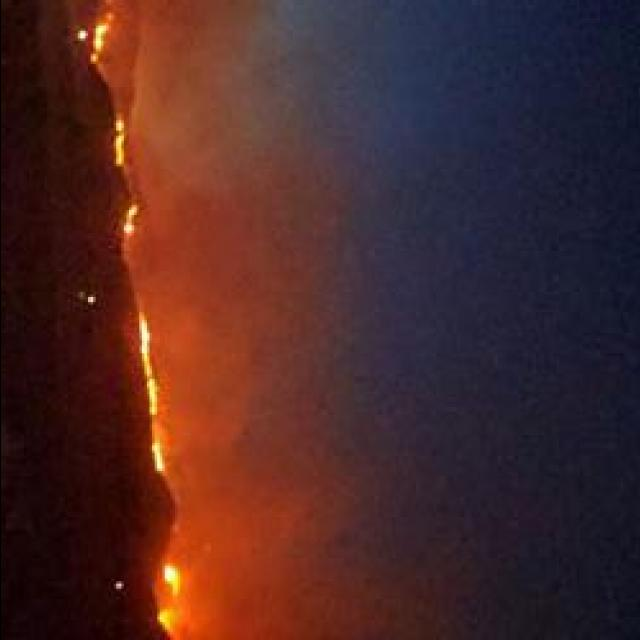fire: (127, 311, 173, 473), (146, 567, 198, 633)
smoke: (178, 124, 316, 516), (202, 495, 459, 639), (132, 0, 288, 109)
